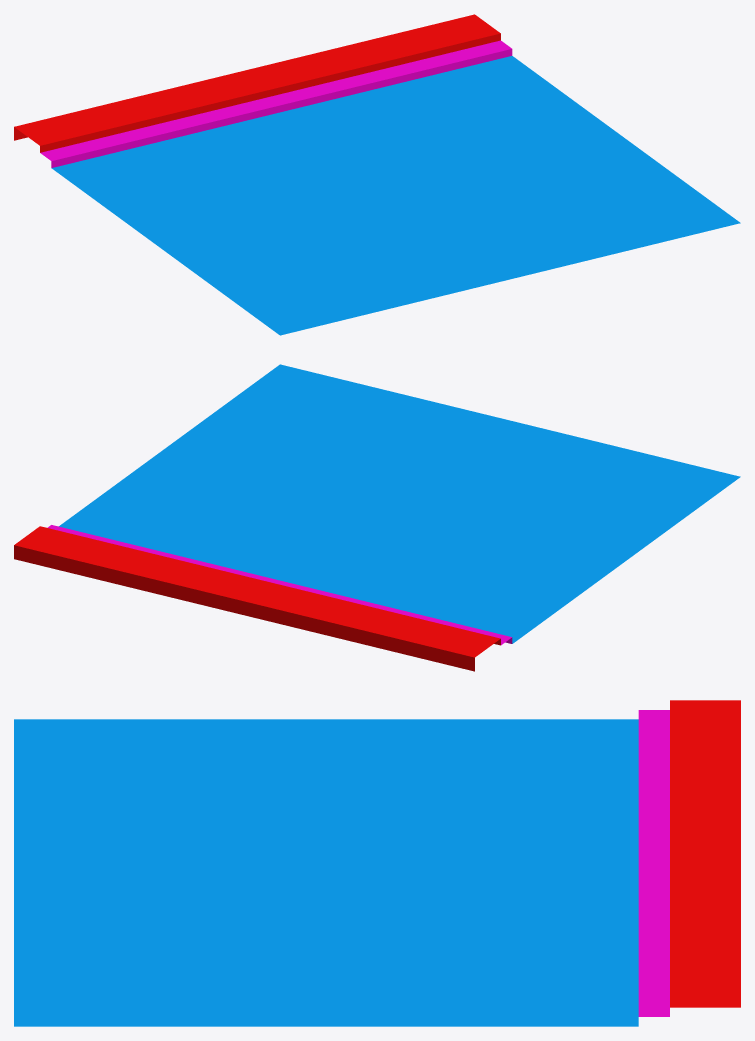
Rendered from FloorSide.fbx.
3 views of the same model, one above another, from view 1: azimuth 30°, elevation 25°; view 2: azimuth 150°, elevation 25°; view 3: azimuth 270°, elevation 25° (orthographic). The views are drawn at different scales.
Visible parts, largest first — view 1: Side; view 2: Side; view 3: Side.
Part boxes in pixels (bbox=[...]): Side: bbox=[14, 14, 740, 335]; Side: bbox=[14, 364, 740, 671]; Side: bbox=[14, 700, 740, 1026].
Bounding box in the file's own units: 78.74 × 2.28 × 78.74.
